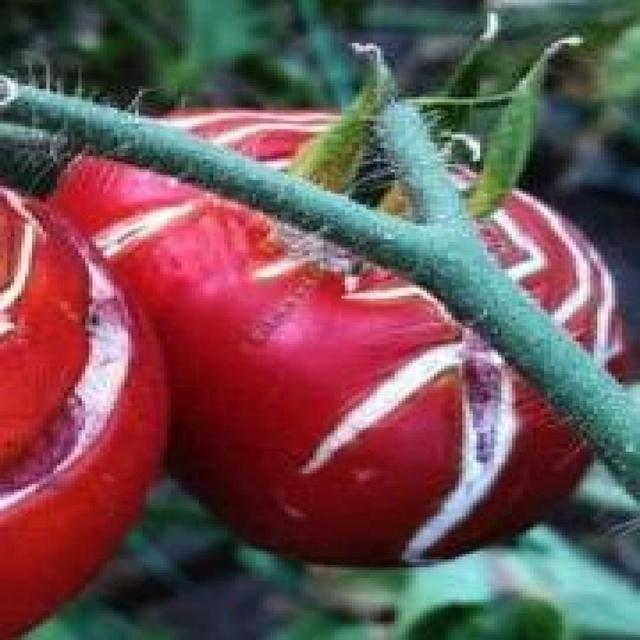Cracking Fruit: (46, 42, 346, 286)
